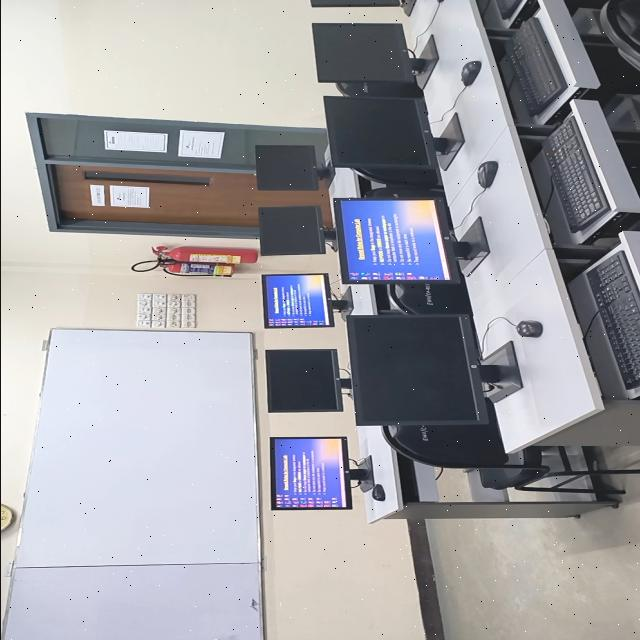Chair: (382, 404, 576, 490), (599, 0, 640, 72), (387, 281, 470, 315), (353, 168, 440, 188), (335, 81, 420, 98)
Fire Extinguisher: (166, 246, 257, 263), (163, 263, 233, 276)
Keyboard: (583, 252, 640, 391), (541, 116, 608, 233), (506, 18, 565, 116), (495, 0, 520, 20)
Monitor: (346, 313, 487, 426), (333, 199, 455, 284), (323, 97, 436, 171), (270, 438, 373, 510), (310, 23, 414, 85), (265, 350, 349, 412), (261, 274, 348, 329), (258, 206, 333, 256), (254, 145, 328, 191), (310, 0, 399, 7)
Mouse: (476, 161, 497, 189), (460, 61, 480, 86), (516, 321, 541, 338), (370, 485, 384, 502)
